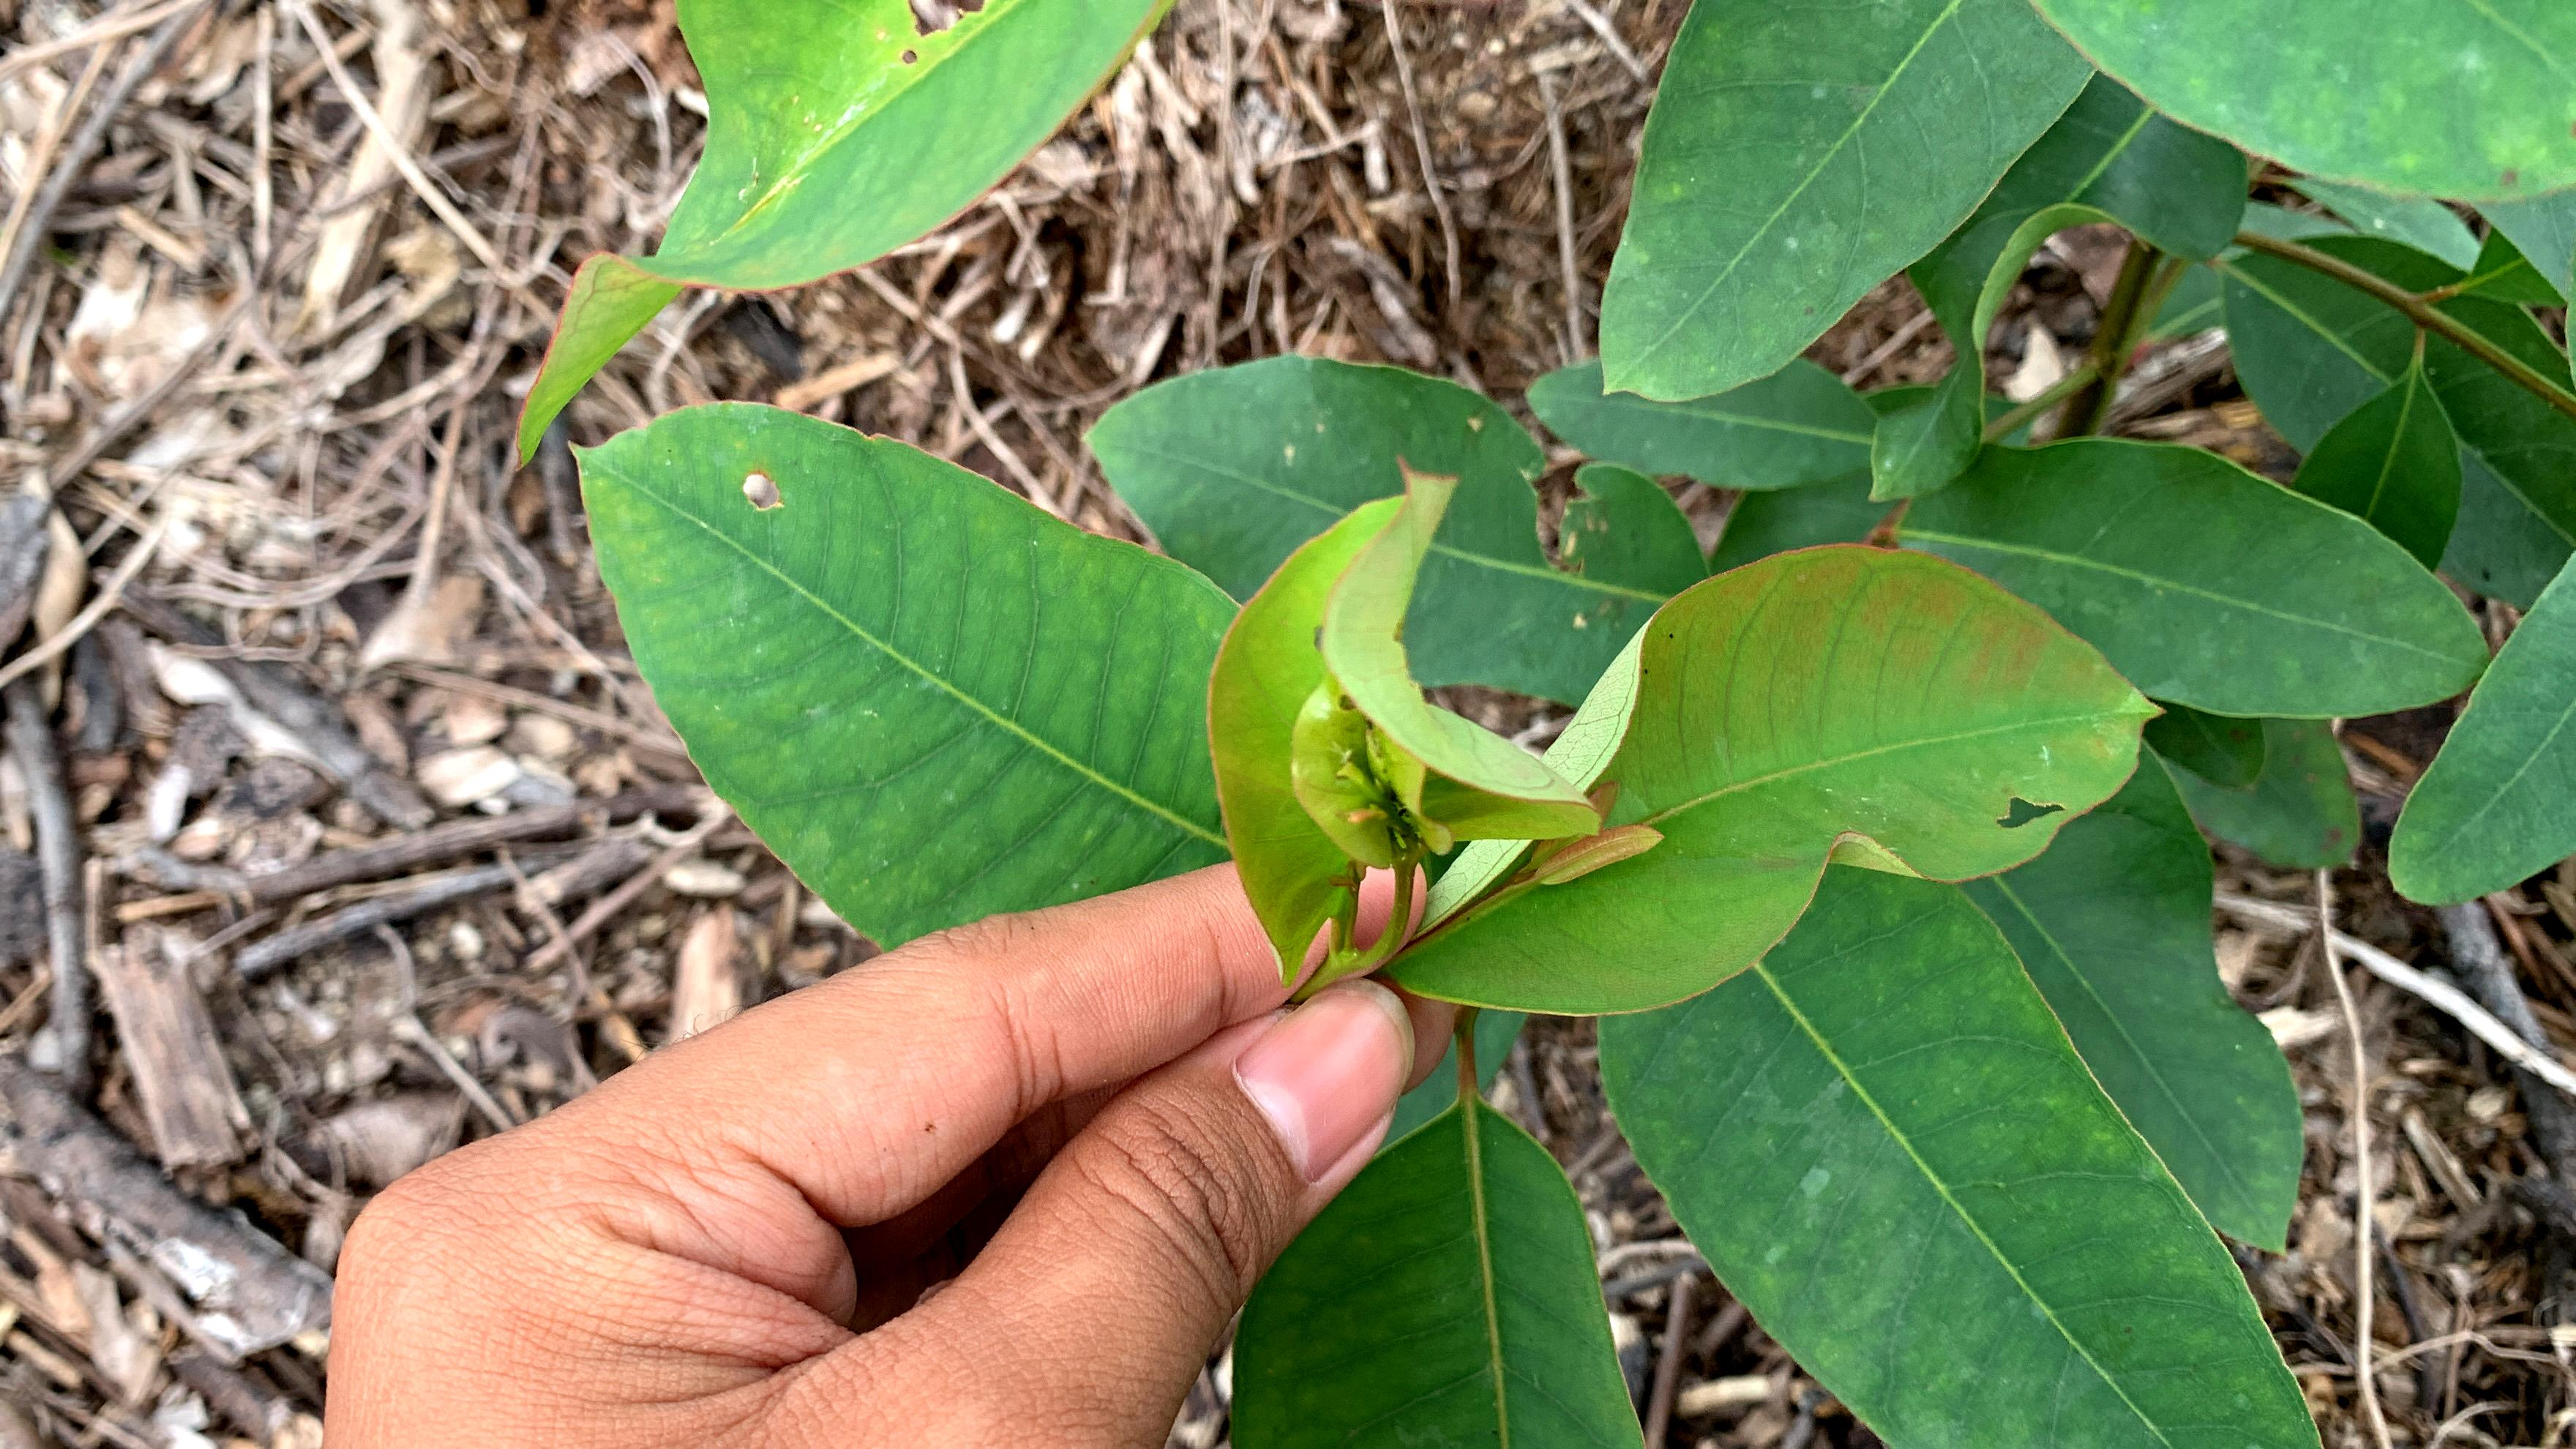Leaf Roller - Leaf: (1172, 517, 2142, 987)
